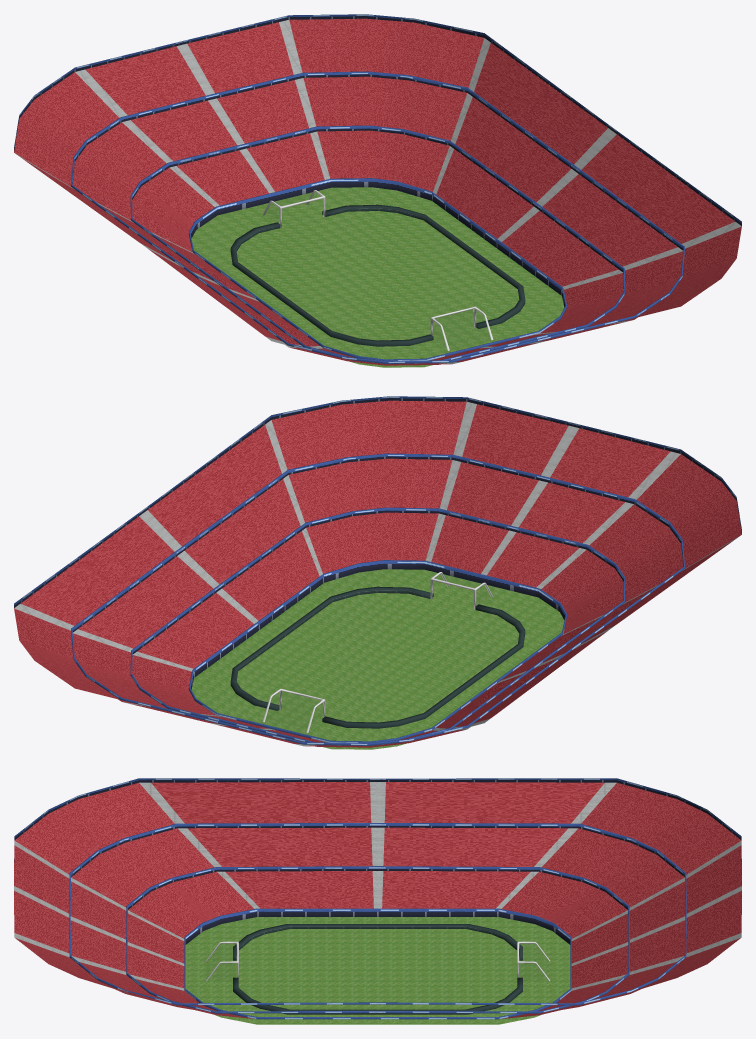
The model's file is soccer_field_track.glb.
3 views of the same model, one above another, from view 1: azimuth 30°, elevation 25°; view 2: azimuth 150°, elevation 25°; view 3: azimuth 270°, elevation 25° (orthographic). The views are drawn at different scales.
Parts seen in each view (by area): view 1: racetrack_red.jpg__, racetrack_grass.jpg__, racetrack_stadium.jpg__, city_concrete.jpg__, ___; view 2: racetrack_red.jpg__, racetrack_grass.jpg__, racetrack_stadium.jpg__, city_concrete.jpg__, ___; view 3: racetrack_red.jpg__, racetrack_grass.jpg__, racetrack_stadium.jpg__, city_concrete.jpg__, ___.
Part boxes in pixels (x1,y1,x2,y2): racetrack_red.jpg__: (14,18,741,365); racetrack_grass.jpg__: (191,187,564,367); racetrack_stadium.jpg__: (14,14,741,363); city_concrete.jpg__: (15,20,741,364); ___: (263,190,493,350); racetrack_red.jpg__: (14,400,741,747); racetrack_grass.jpg__: (191,569,564,749); racetrack_stadium.jpg__: (14,396,741,745); city_concrete.jpg__: (14,402,740,746); ___: (262,572,492,732); racetrack_red.jpg__: (14,782,741,1018); racetrack_grass.jpg__: (185,917,570,1024); racetrack_stadium.jpg__: (14,778,741,1019); city_concrete.jpg__: (14,782,741,990); ___: (205,941,550,981).
Bounding box in the file's own units: 234 × 44.06 × 337.
Materials: 6 (5 with a texture image).
